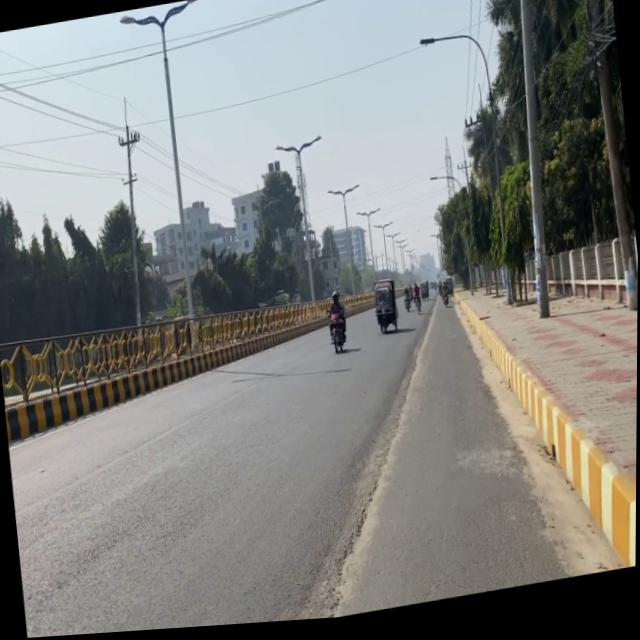Construction-barrier: (284, 396, 446, 625)
Fallen-tree: (438, 291, 450, 313), (403, 298, 412, 318), (413, 301, 423, 319)
Garbage-bin: (323, 293, 348, 350)
Light-pole: (498, 0, 565, 328), (574, 0, 640, 322)
Pole: (0, 297, 255, 457)
Pothole: (450, 266, 638, 598)
Traffic-cone: (370, 281, 400, 339)
